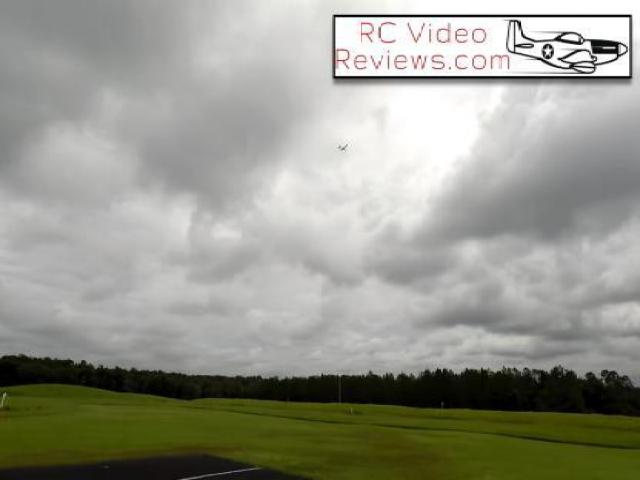uav: (333, 134, 355, 156)
